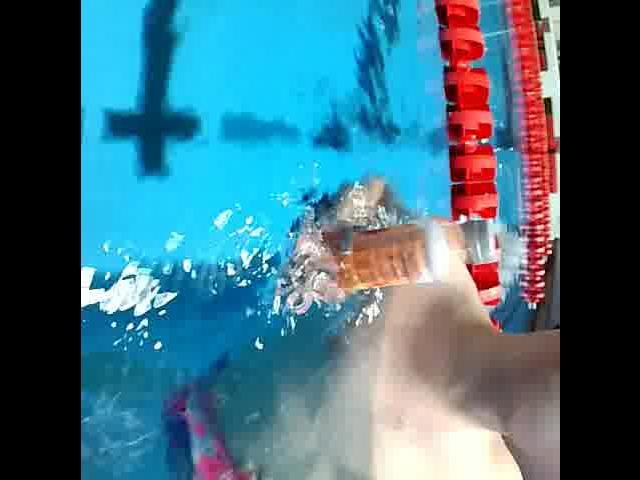Bottle: (336, 213, 498, 293)
